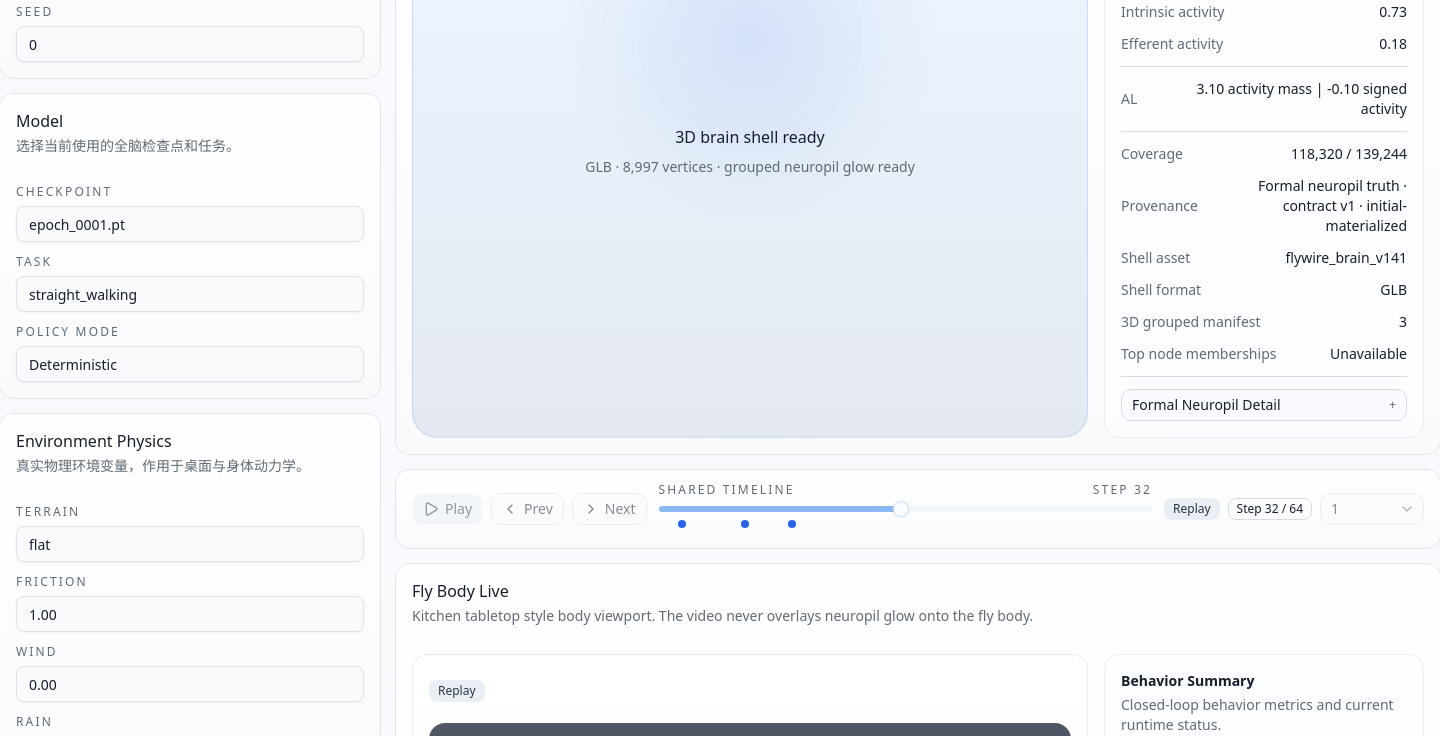
ExperimentConsolePage layout › shows unavailable in formal neuropil detail when top regions are empty
This screenshot has width=1440, height=736.
(page scrolled)
Click the button "Formal Neuropil Detail +".
click(1264, 405)  # box [1121,389,1407,421]
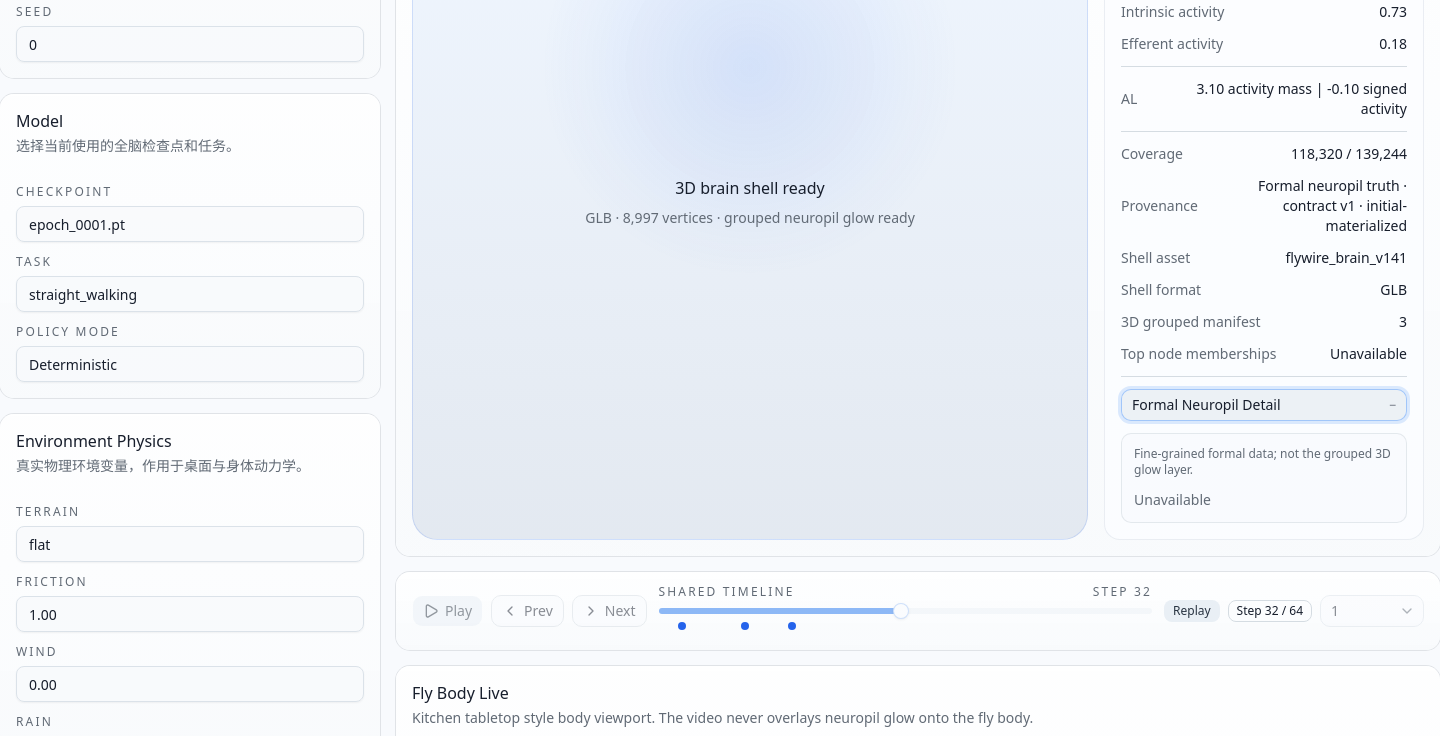
Expected: the button "Formal Neuropil Detail −" is expanded, [1121,389,1407,421]
Expected: the 2nd text "Unavailable" is shown, [1134,490,1211,509]
